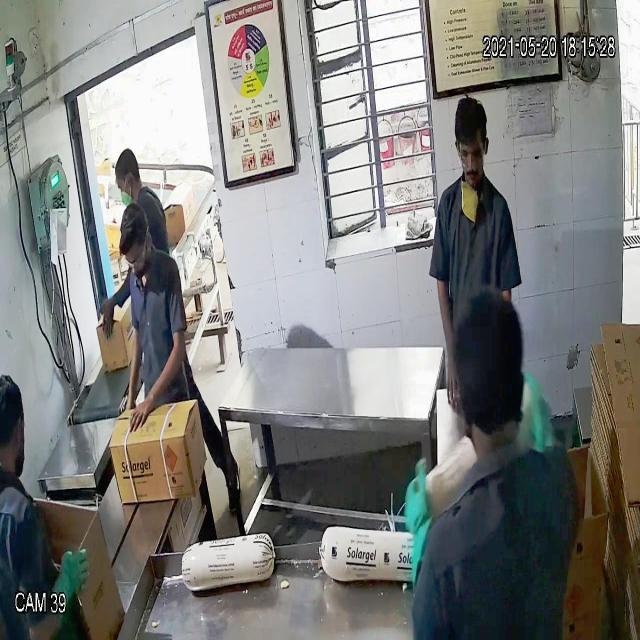glasses: (454, 133, 492, 171), (119, 241, 149, 274)
